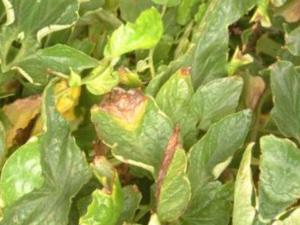Tomato mold leaf: (58, 64, 228, 225), (151, 92, 275, 225), (8, 22, 104, 108), (238, 50, 300, 146)
